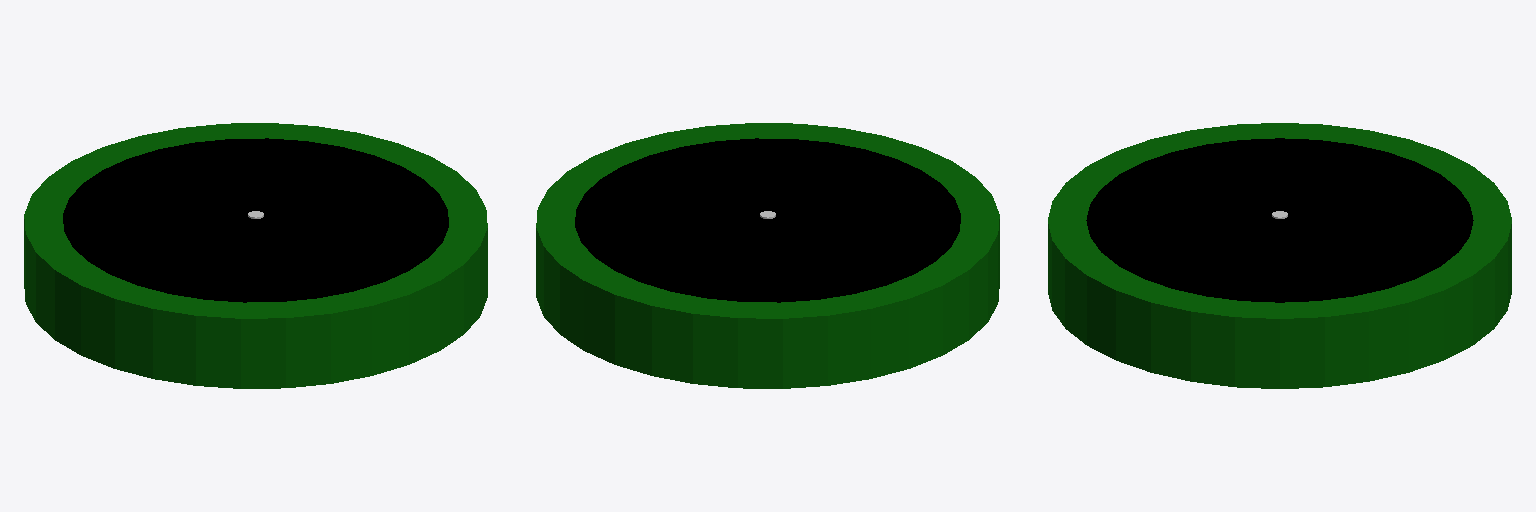
The model's file is wheel.obj.
3 views of the same model, side by side, from view 1: azimuth 30°, elevation 25°; view 2: azimuth 150°, elevation 25°; view 3: azimuth 270°, elevation 25° (orthographic).
Parts seen in each view (by area): view 1: Cylinder.003_Cylinder.004, Cylinder; view 2: Cylinder.003_Cylinder.004, Cylinder; view 3: Cylinder.003_Cylinder.004, Cylinder.
Boxes of the visible parts, <box> form: Cylinder.003_Cylinder.004: <box>24,123,487,388</box>; Cylinder: <box>63,138,448,302</box>; Cylinder.003_Cylinder.004: <box>536,123,999,388</box>; Cylinder: <box>575,138,960,302</box>; Cylinder.003_Cylinder.004: <box>1048,123,1511,388</box>; Cylinder: <box>1086,138,1473,302</box>.
Bounding box in the file's own units: 0.06 × 0.0119 × 0.06.